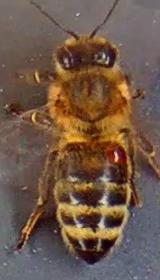varroa_mite: (92, 131, 138, 178)
